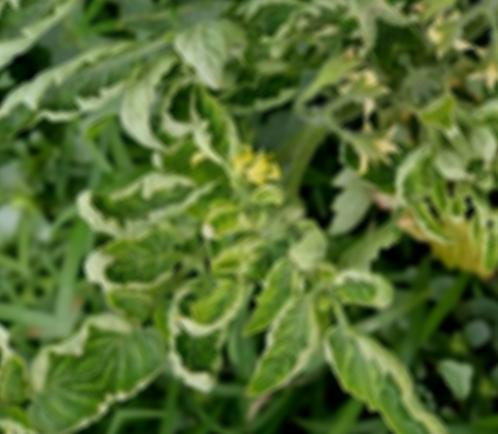Tomato leaf yellow virus: (51, 123, 214, 277), (127, 254, 282, 408), (65, 265, 213, 404), (299, 291, 433, 434), (208, 280, 349, 414), (64, 195, 202, 324), (168, 75, 255, 179), (195, 189, 262, 251), (209, 0, 332, 10)
